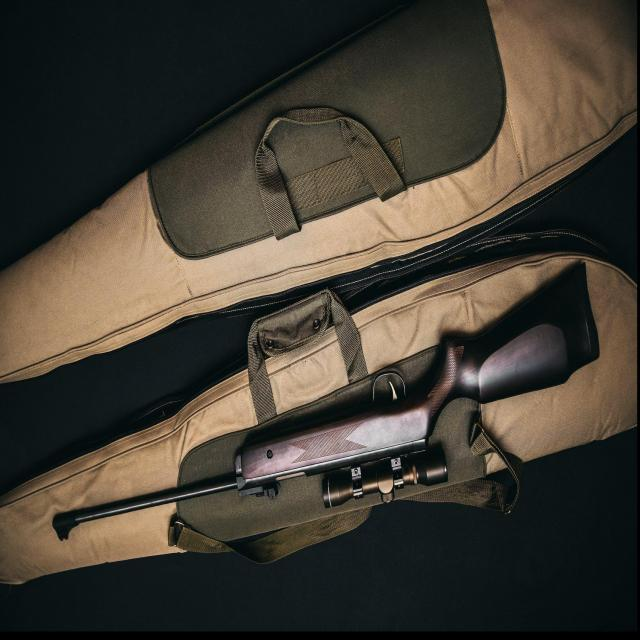weapon: (50, 259, 602, 545)
